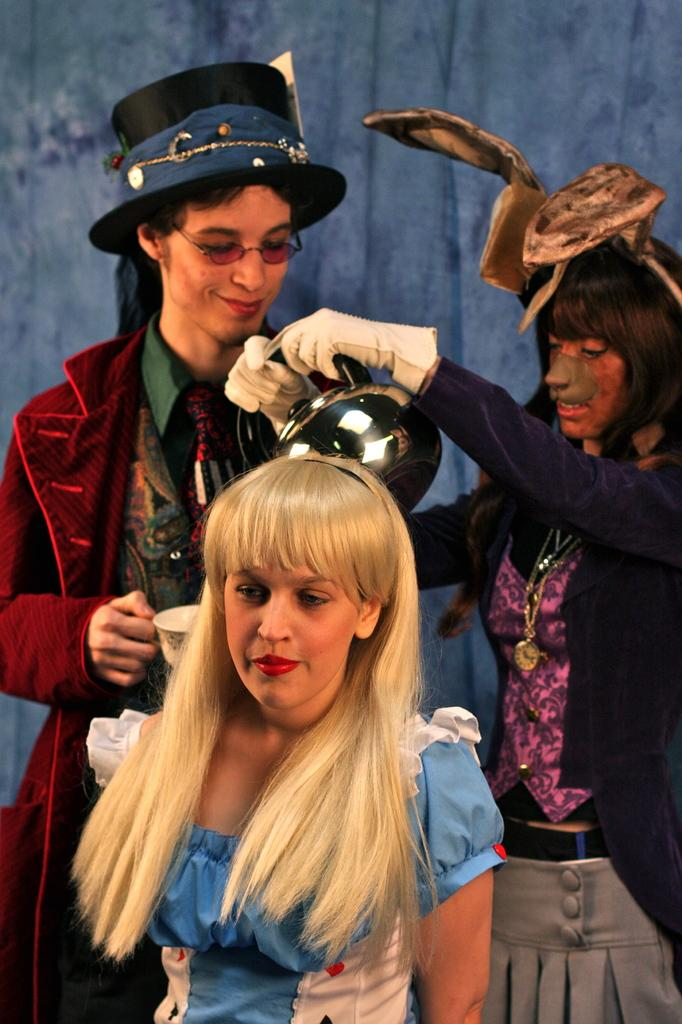Hat: (88, 63, 350, 261)
